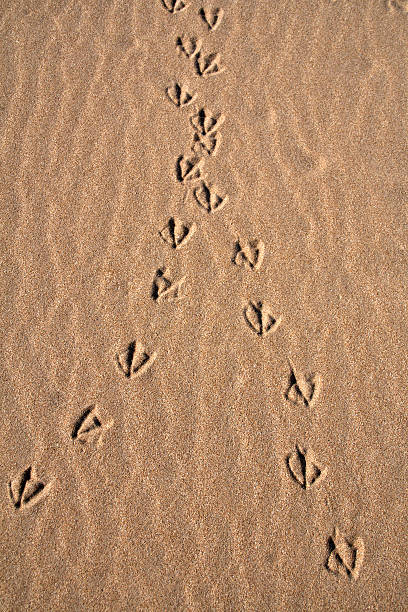animal_footprint: (326, 527, 364, 579), (8, 466, 52, 508), (287, 445, 326, 489), (284, 360, 321, 406), (71, 405, 112, 446), (116, 341, 156, 377), (244, 301, 280, 336), (159, 217, 196, 248), (151, 267, 184, 301), (193, 181, 227, 212), (232, 239, 264, 269), (190, 107, 224, 135), (166, 82, 196, 107), (176, 155, 203, 182), (195, 52, 224, 77), (191, 132, 220, 155), (176, 35, 202, 59), (199, 6, 223, 30), (161, 0, 189, 13), (385, 0, 407, 13)
